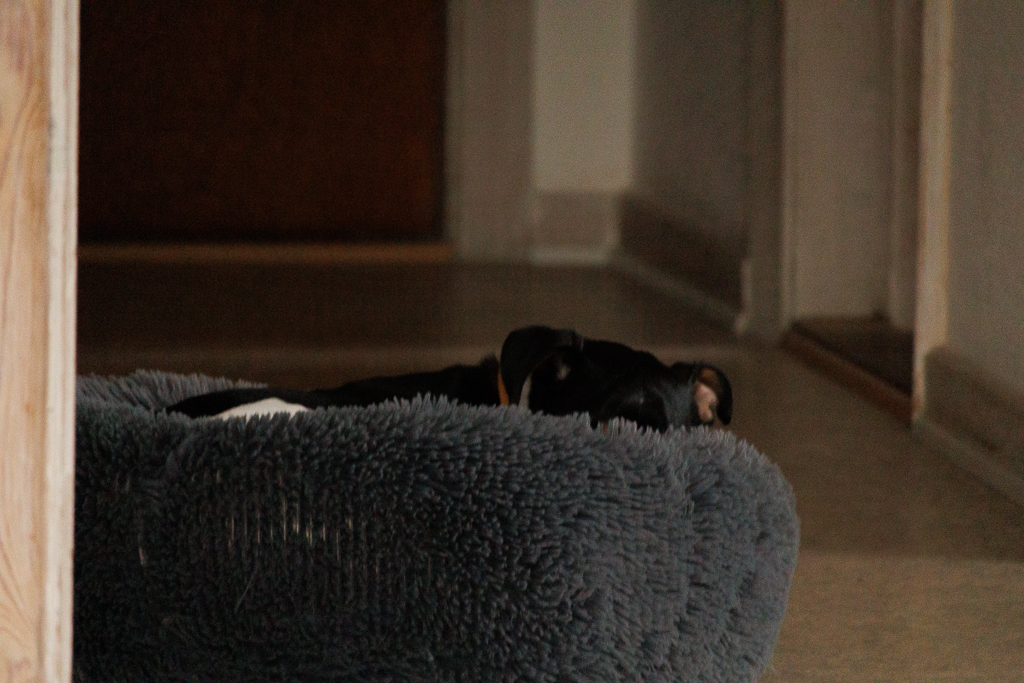Dog: (151, 314, 746, 448)
